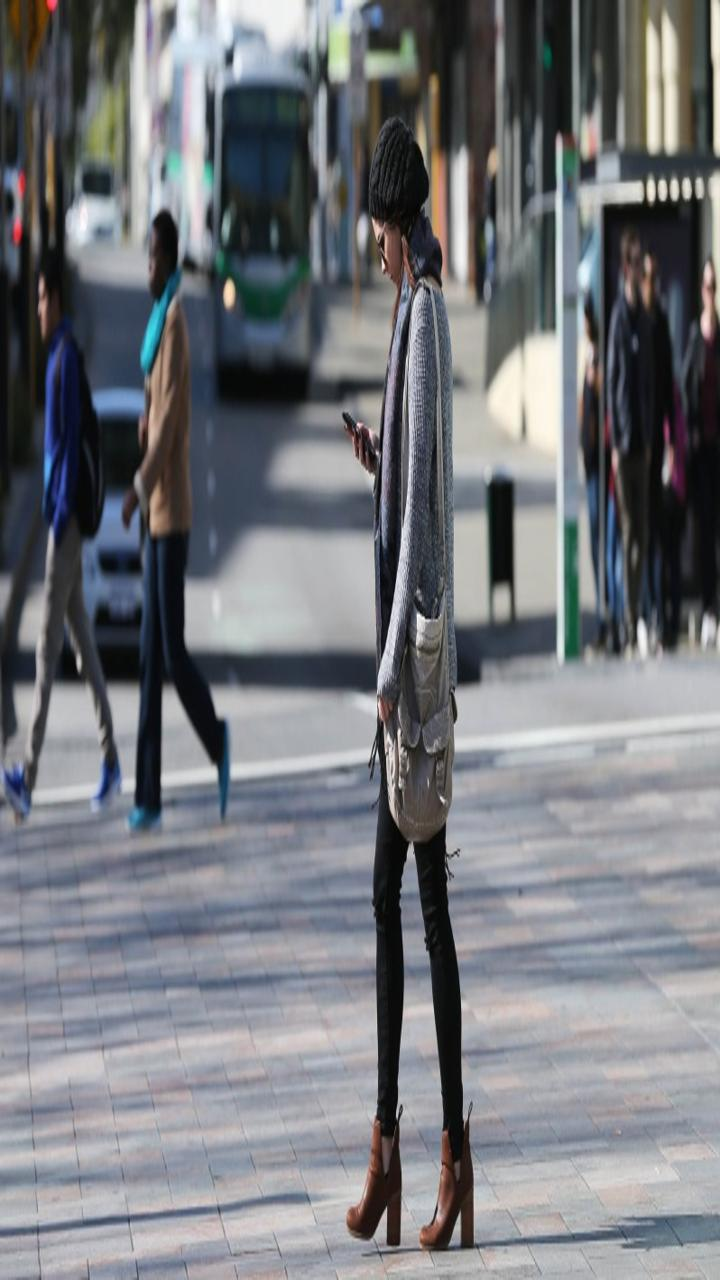pedestrian: (311, 132, 500, 1253), (108, 208, 244, 852), (1, 259, 132, 832)
